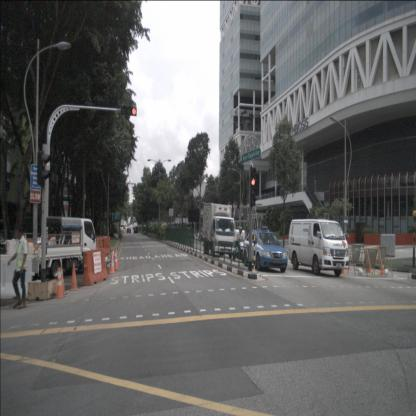barrier: (0, 255, 35, 299), (82, 249, 108, 286), (6, 240, 34, 270), (92, 235, 110, 255)
cone: (54, 267, 66, 299), (56, 266, 68, 295), (70, 262, 79, 290), (106, 256, 113, 276), (379, 255, 386, 275), (110, 254, 116, 273), (113, 248, 118, 270), (366, 256, 372, 274), (111, 247, 116, 267), (110, 246, 114, 265), (346, 256, 351, 270), (341, 261, 346, 275)
